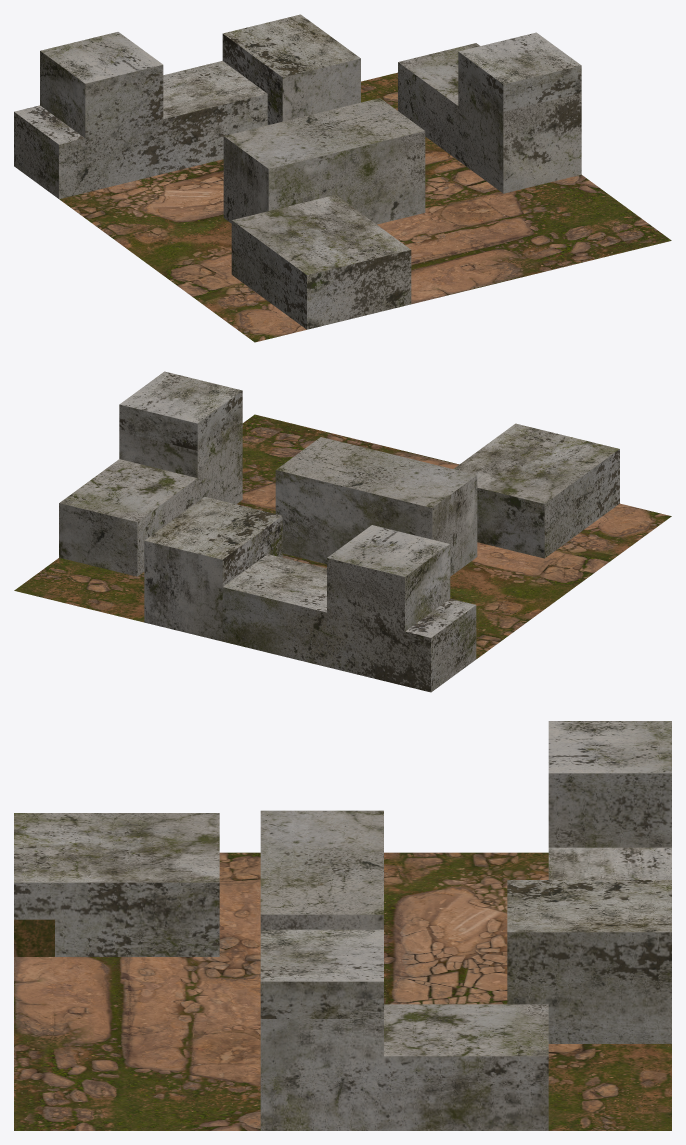
Rendered from Maze2.fbx.
The picture shows the model from 3 angles, top to bottom: view 1: azimuth 30°, elevation 25°; view 2: azimuth 150°, elevation 25°; view 3: azimuth 270°, elevation 25°; orthographic projection. The views are drawn at different scales.
Parts seen in each view (by area): view 1: Maze1; view 2: Maze1; view 3: Maze1.
Boxes of the visible parts, box(x1,y1,x2,y2) form: Maze1: box(14, 14, 671, 342); Maze1: box(14, 371, 671, 692); Maze1: box(14, 721, 671, 1130).
Bounding box in the file's own units: 1600 × 400 × 1600.
